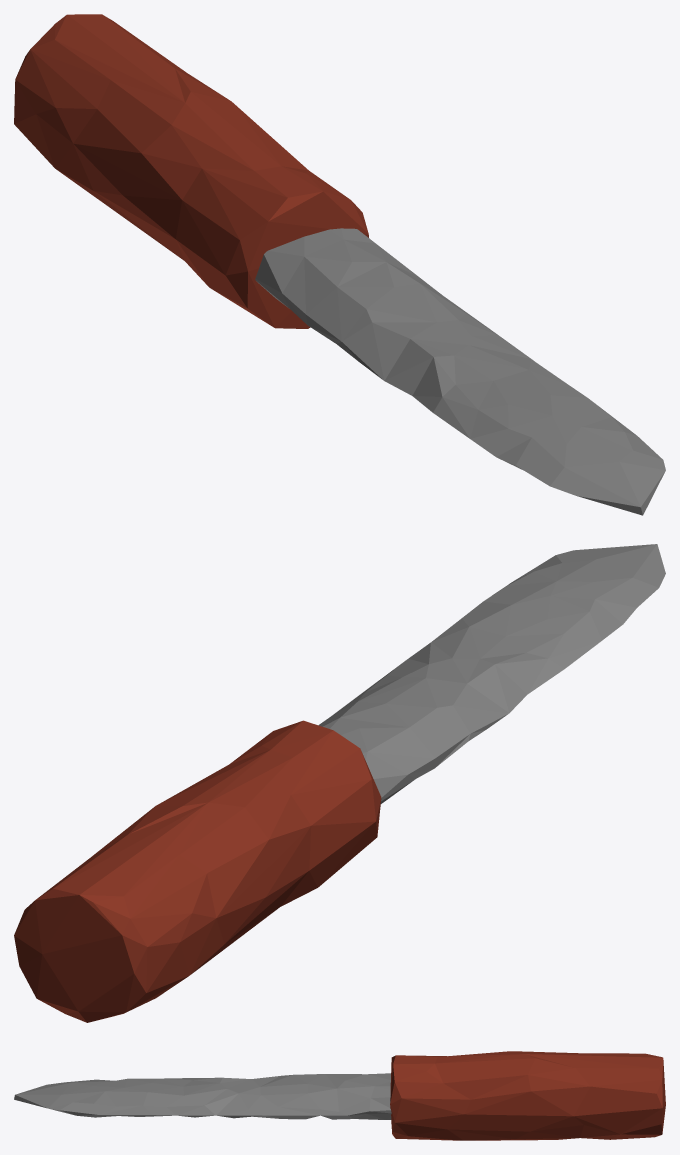
The model's file is Knife stone.fbx.
3 views of the same model, one above another, from view 1: azimuth 30°, elevation 25°; view 2: azimuth 150°, elevation 25°; view 3: azimuth 270°, elevation 25° (orthographic). The views are drawn at different scales.
Visible parts, largest first — view 1: Knife stone; view 2: Knife stone; view 3: Knife stone.
Boxes of the visible parts, <box> form: Knife stone: <box>14,14,665,515</box>; Knife stone: <box>14,544,665,1022</box>; Knife stone: <box>14,1051,665,1140</box>.
Bounding box in the file's own units: 0.0414 × 0.0408 × 0.2974.
